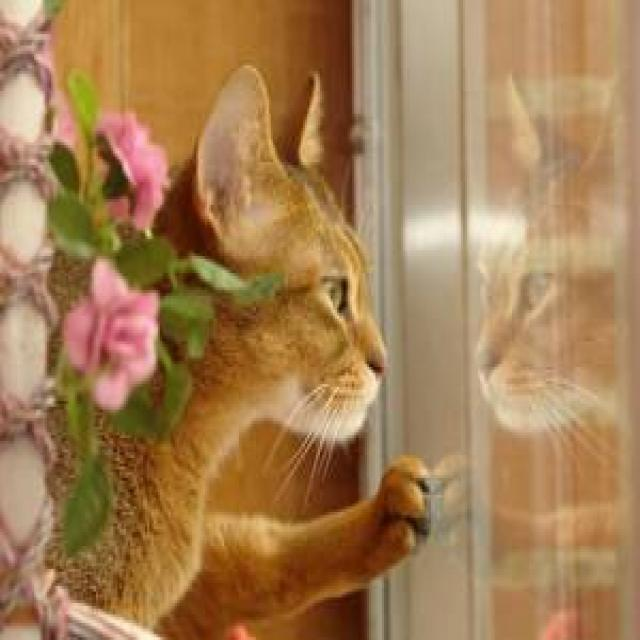Abyssinian: (175, 56, 390, 451)
